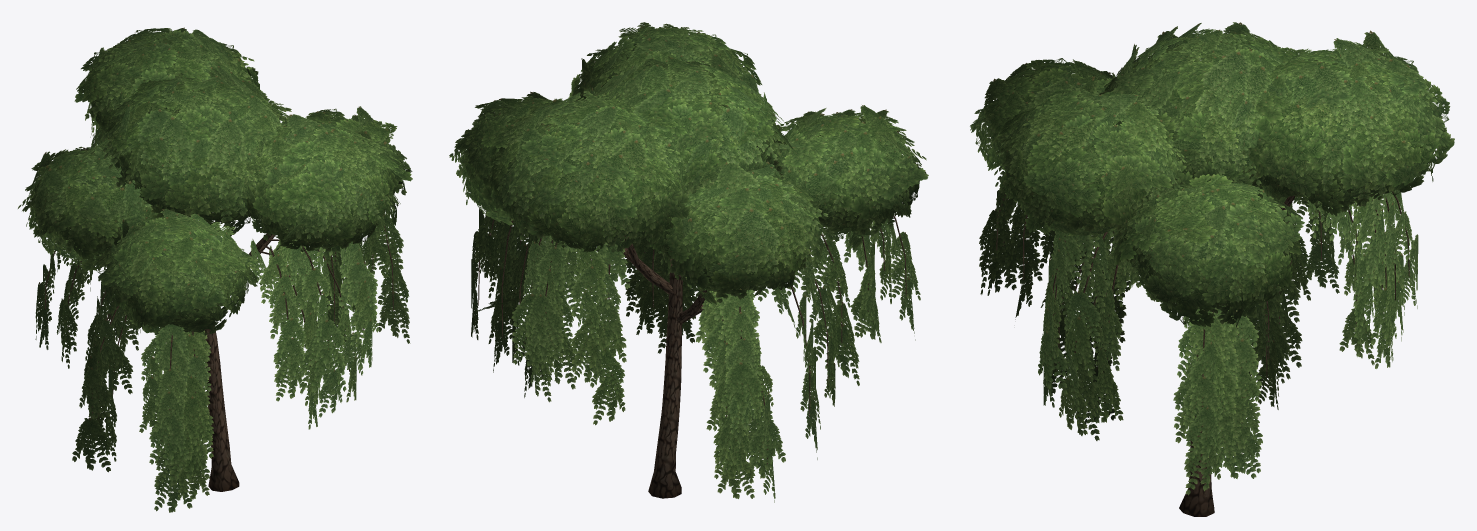
The model's file is keora_b.glb.
3 renders of one model, left to right at view 1: azimuth 30°, elevation 25°; view 2: azimuth 150°, elevation 25°; view 3: azimuth 270°, elevation 25°, orthographic. The views are drawn at different scales.
Visible parts, largest first — view 1: leaves, wood; view 2: leaves, wood; view 3: leaves, wood.
Boxes of the visible parts, bbox=[...] form: leaves: bbox=[18, 27, 412, 512]; wood: bbox=[45, 226, 393, 491]; leaves: bbox=[449, 22, 928, 502]; wood: bbox=[478, 211, 906, 498]; leaves: bbox=[970, 22, 1454, 495]; wood: bbox=[996, 191, 1409, 516].
Size of the model in its own units: 10.06 by 10.3 by 9.91.
2 materials, 2 textured.
